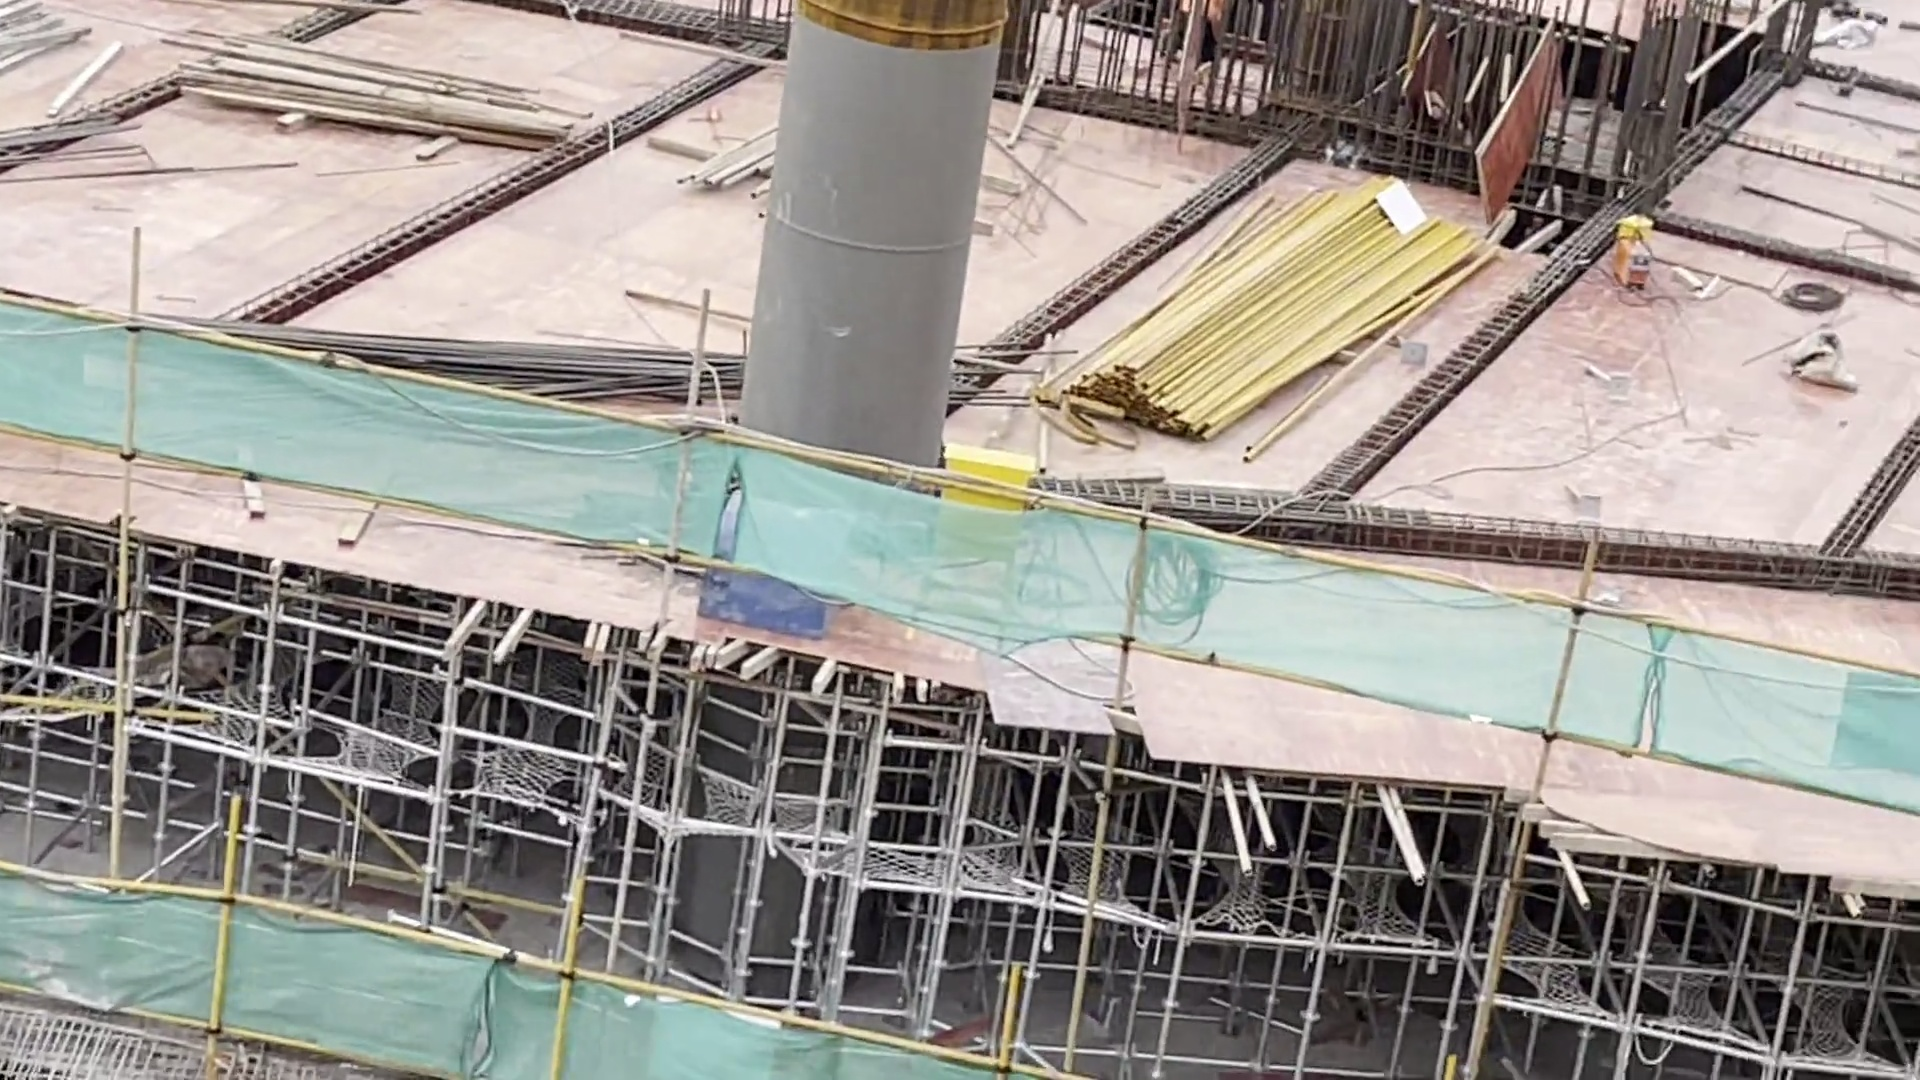ebox: (928, 446, 1038, 646)
wood: (153, 21, 595, 160)
